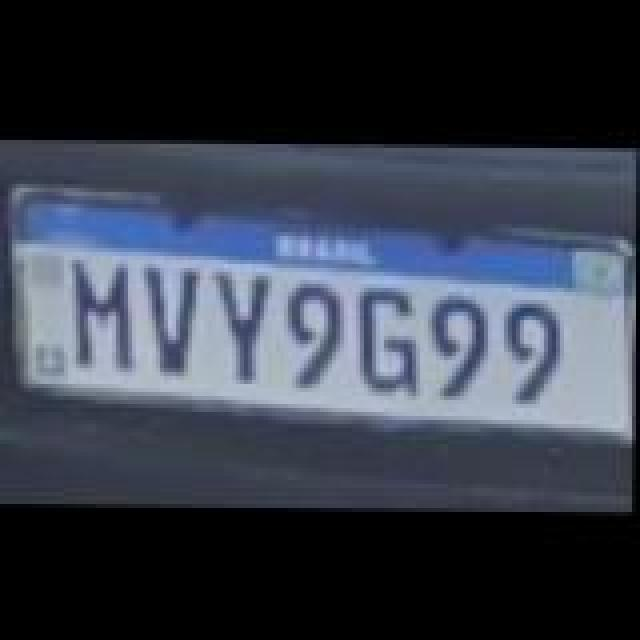9: (502, 296, 578, 404), (428, 292, 500, 400), (280, 278, 352, 386)
G: (354, 280, 430, 392)
M: (64, 256, 144, 372)
V: (140, 262, 212, 374)
Y: (212, 266, 284, 378)
